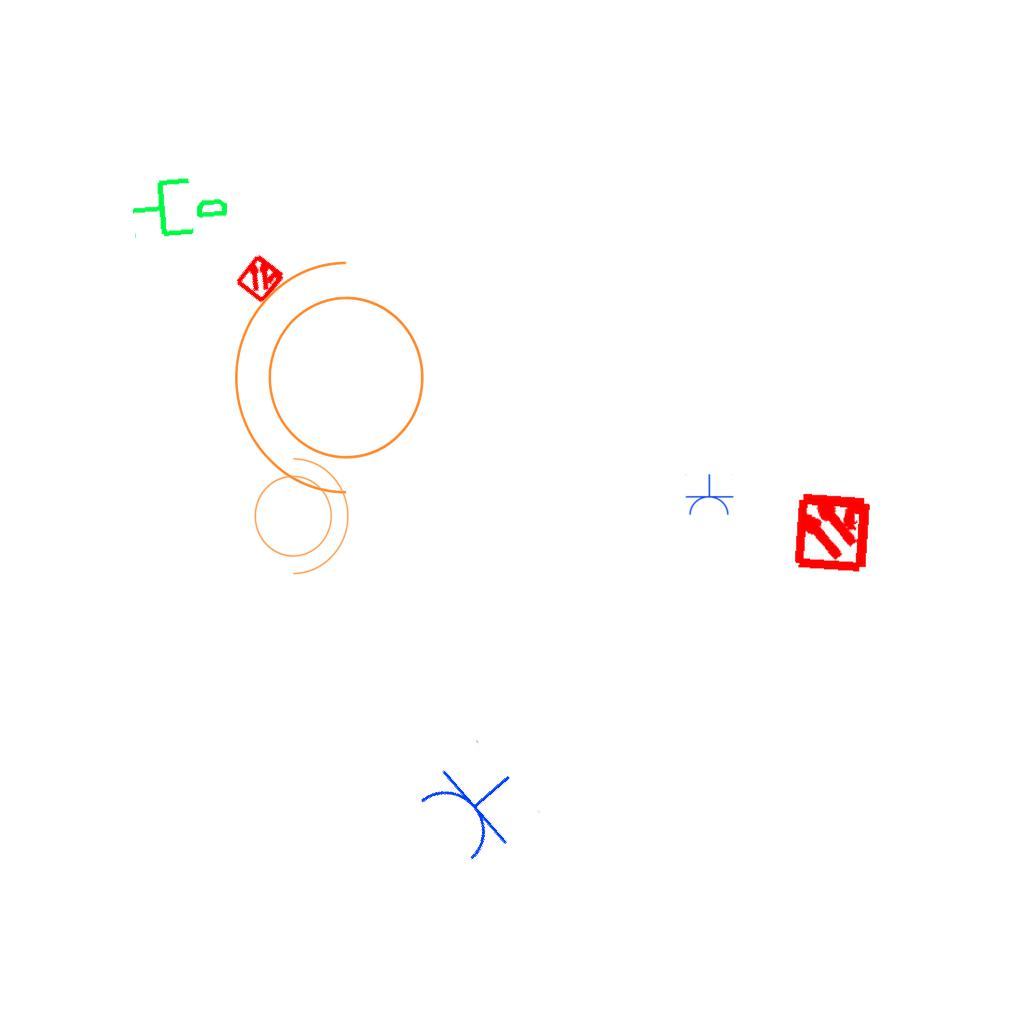Datenanschluss_einfach: (126, 166, 233, 244)
OT_Multisensormelder_(Kombination_RMO_WMD): (772, 470, 893, 591), (221, 238, 301, 318)
Scheinwerfer_fuer_Alarmbeleuchtung: (224, 252, 449, 516), (242, 447, 354, 579)
Schukosteckdose_einfach: (410, 738, 542, 871), (684, 474, 734, 517)
